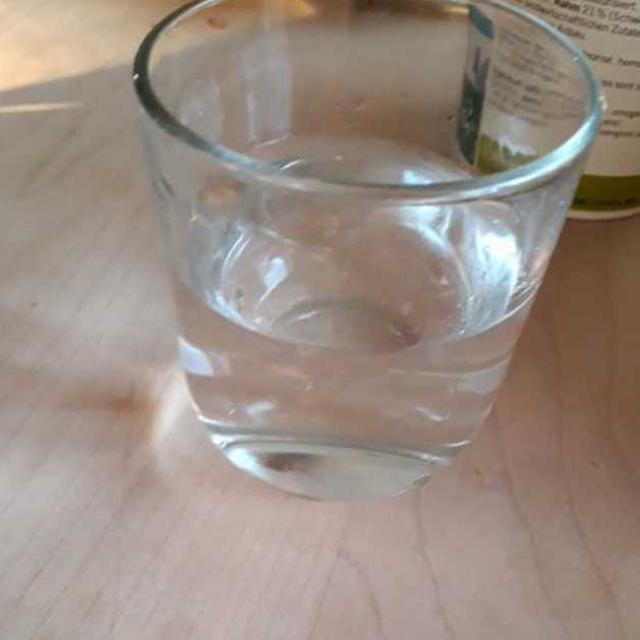water: (154, 128, 564, 528), (186, 141, 556, 502), (167, 157, 558, 496), (173, 136, 552, 483)
